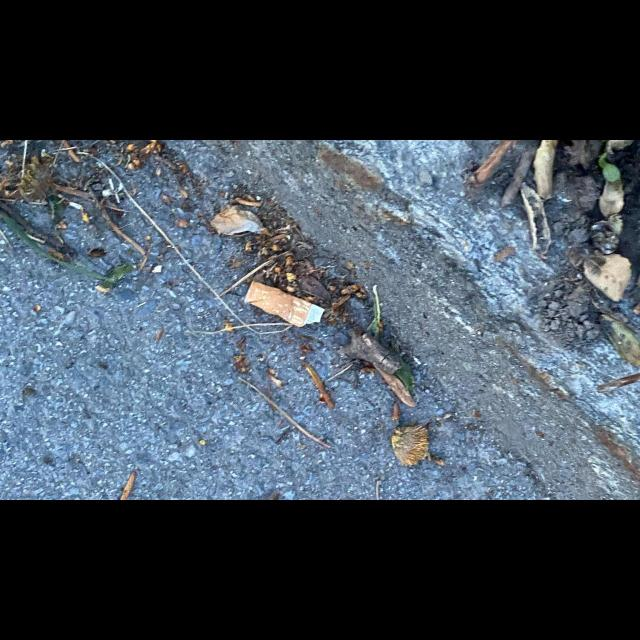cigarette: (244, 280, 325, 328)
